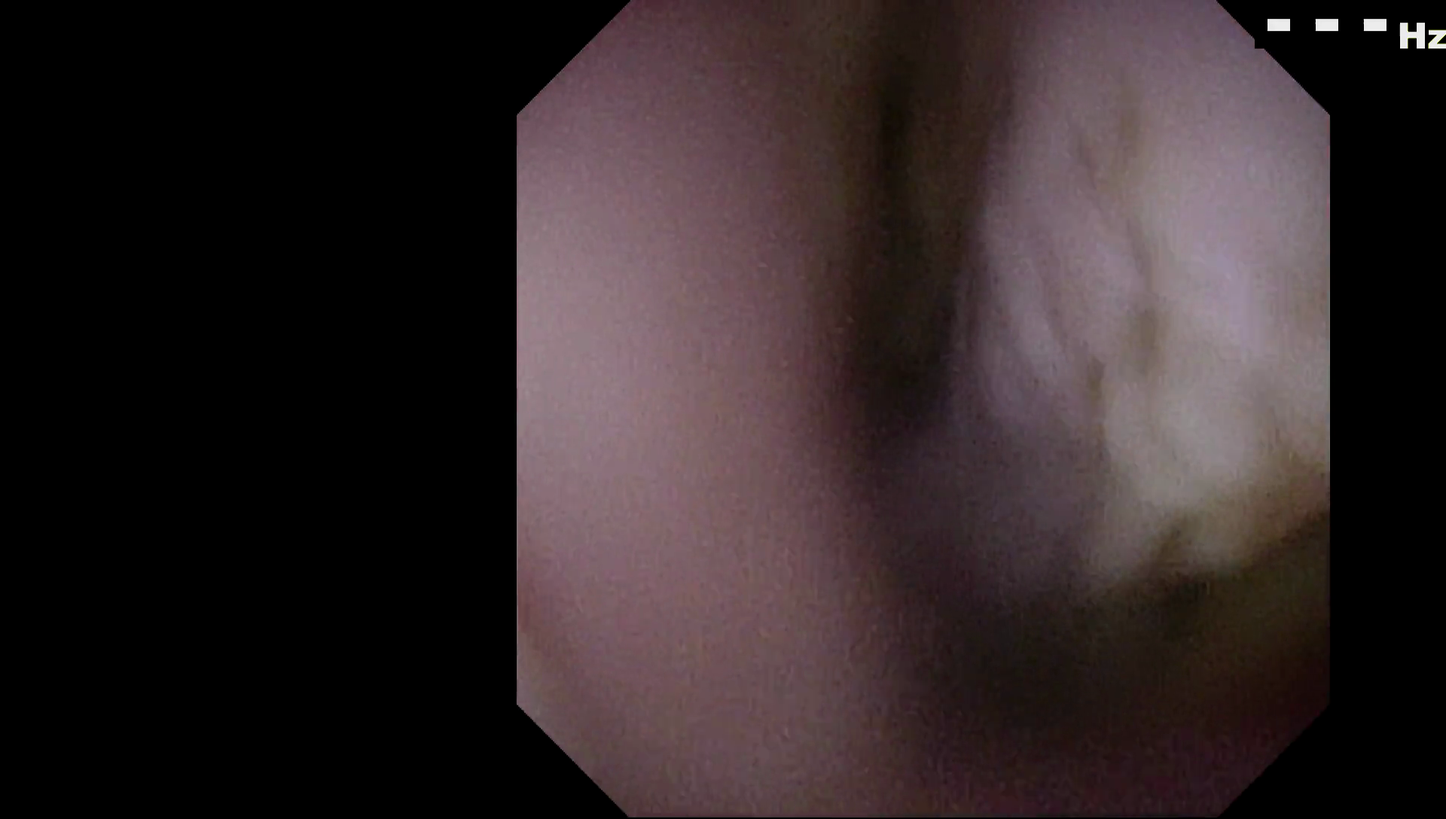close_wall: (520, 126, 853, 692)
next: (892, 544, 1214, 781), (833, 31, 989, 433)
